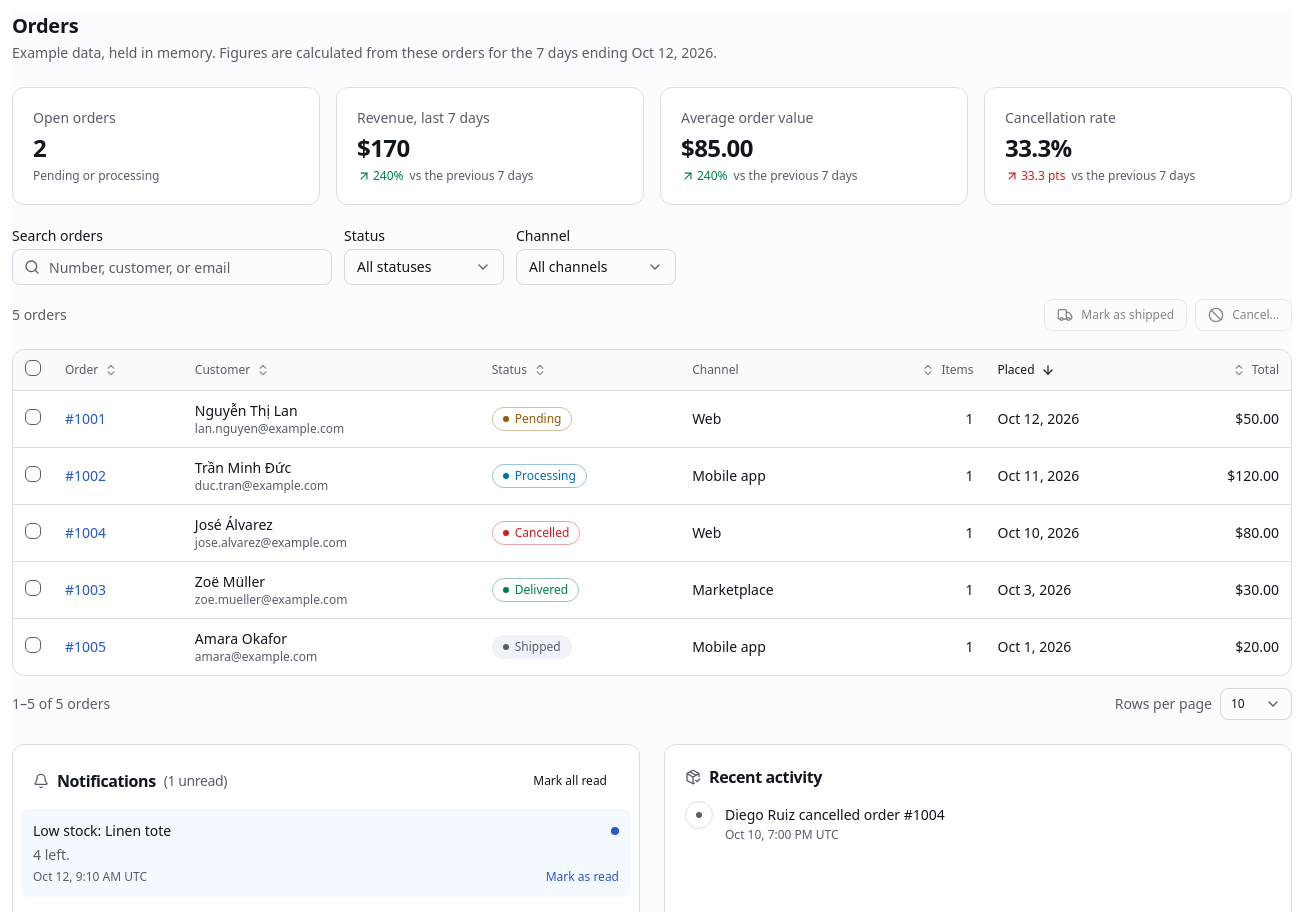
Test: OrdersDashboard › marks selected open orders as shipped and records the activity
This screenshot has width=1304, height=912.
Click the checkbox named "Select order #1001".
click(33, 416)  # box top-left (25, 408), bottom-right (41, 424)
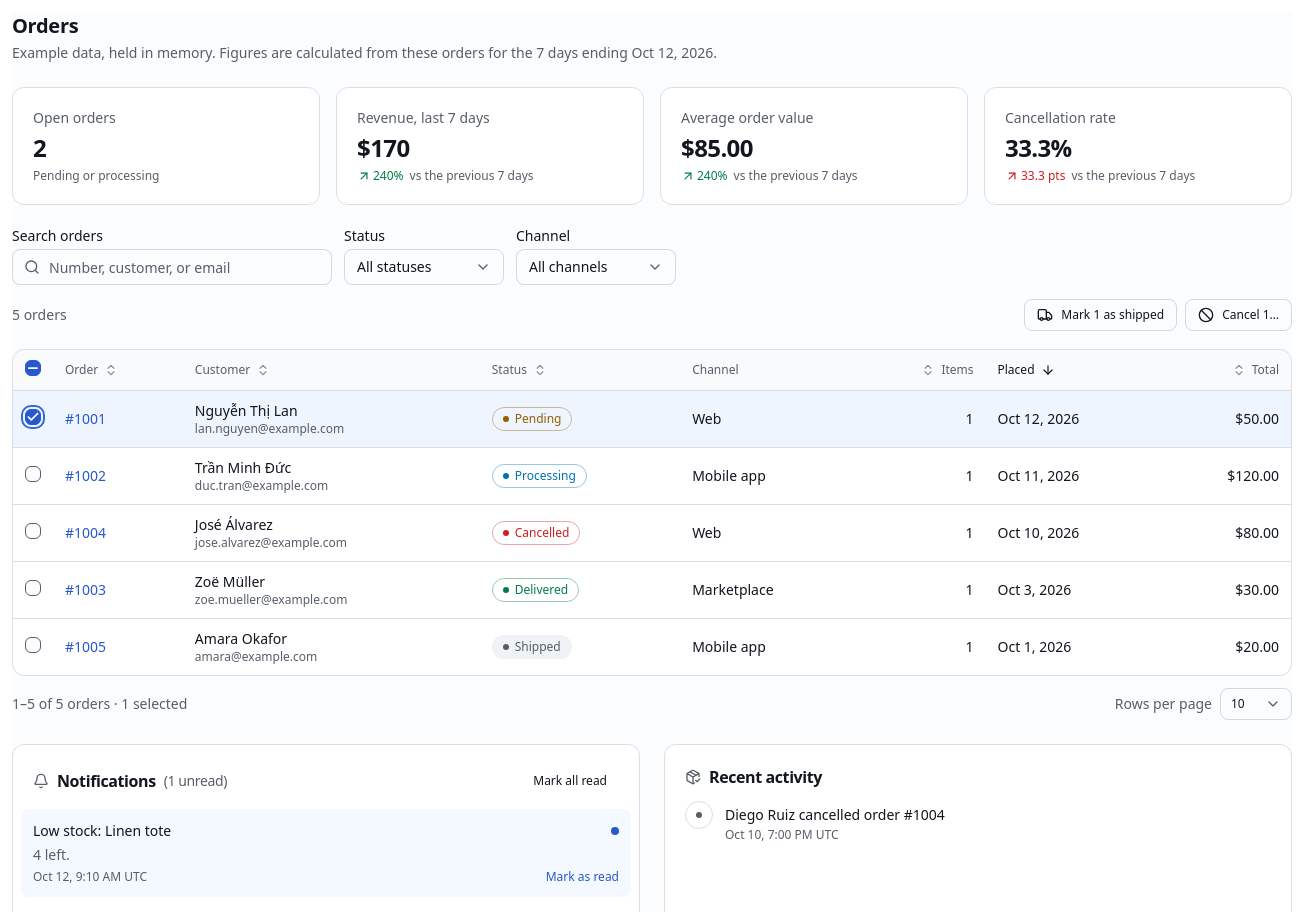
Click the checkbox named "Select order #1003".
click(33, 588)  # box top-left (25, 580), bottom-right (41, 596)
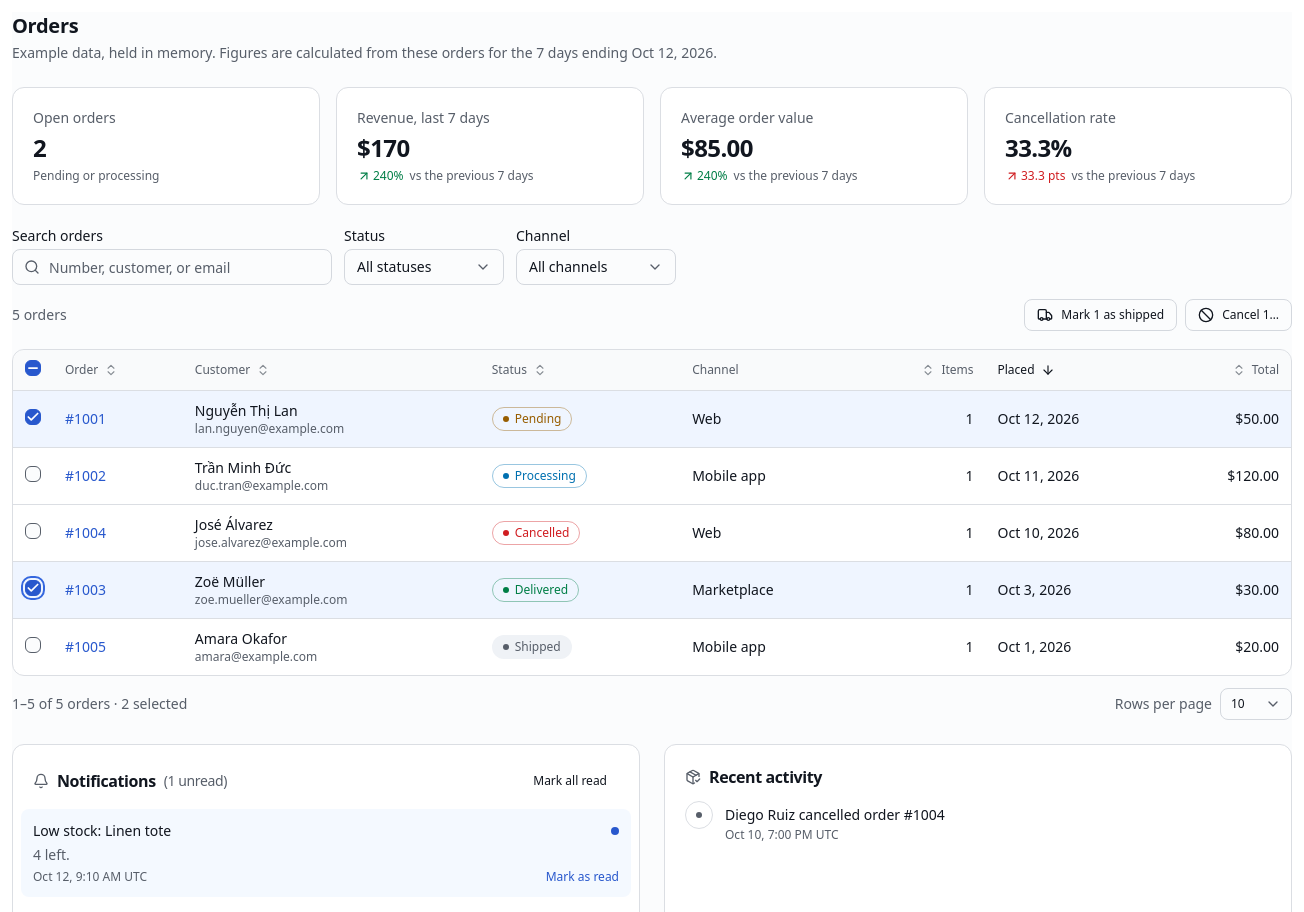
Click the button "Mark 1 as shipped".
click(1101, 315)  # box top-left (1024, 299), bottom-right (1177, 331)
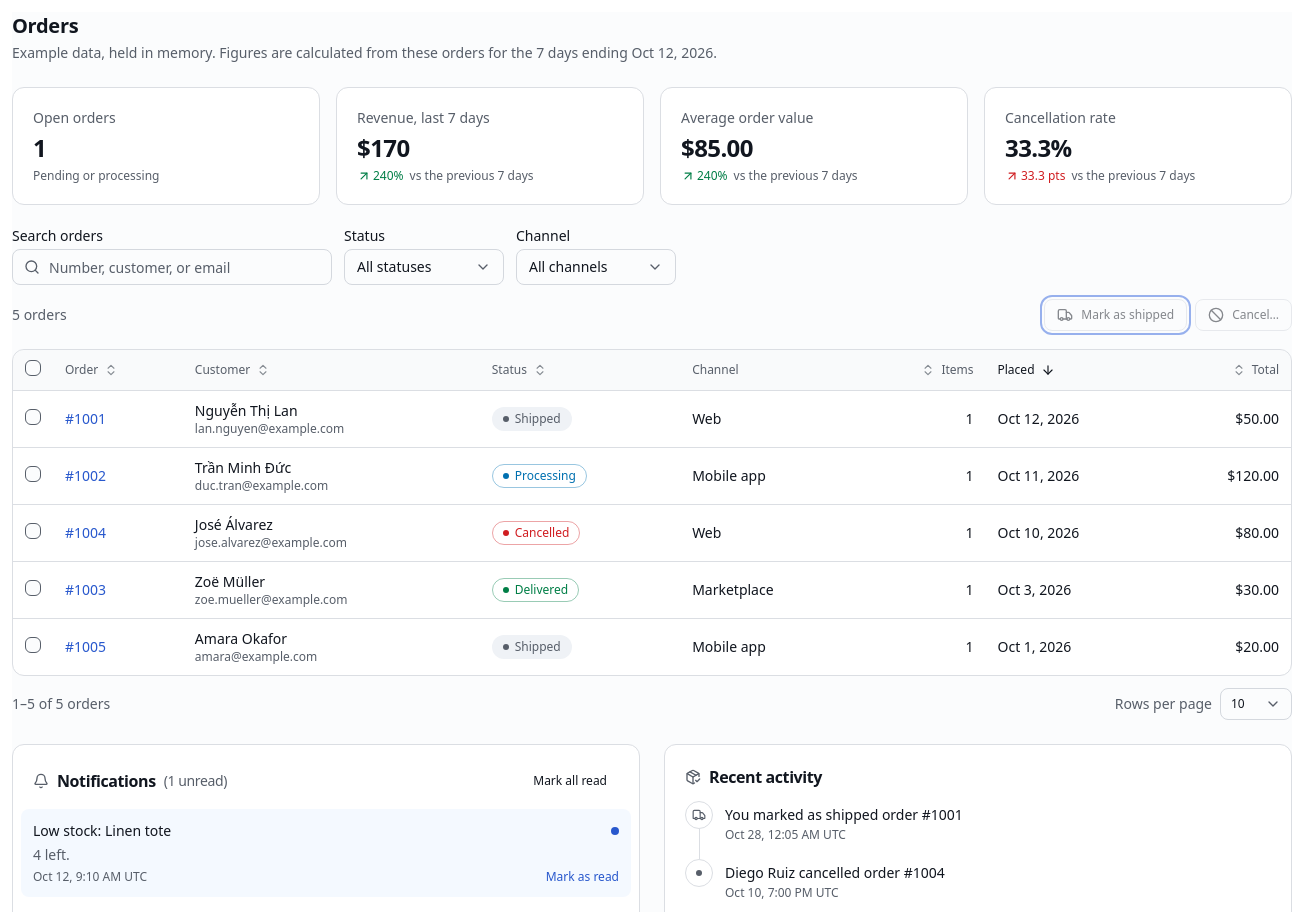
expect the checkbox named "Select order #1001" is not checked: met, box top-left (25, 408), bottom-right (41, 424)
expect the text "Shipped" is shown: met, box top-left (492, 406), bottom-right (572, 430)
expect the list item "You marked as shipped order #1001 Oct 28, 12:05 AM UTC" is shown: met, box top-left (685, 800), bottom-right (963, 842)
